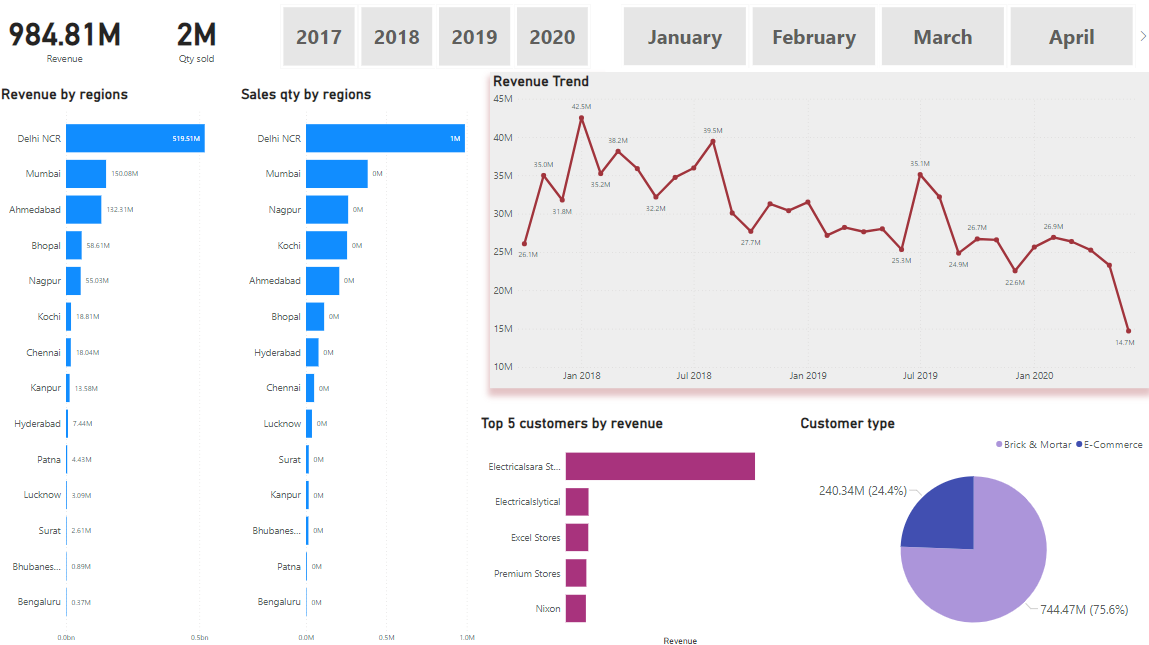

This screenshot's page, from the dashboard's own definition file:
{"tool":"powerbi","page":{"name":"Page 1","canvas":[1920,1080],"ordinal":0},"visuals":[{"type":"card","fields":{"Values":["Base_measures.Revenue"]},"box":[0,0,221.1,120.9],"z":0},{"type":"card","fields":{"Values":["Base_measures.Sales_qty"]},"box":[221.1,0,221.1,120.9],"z":1000},{"type":"barChart","title":"Revenue by regions","fields":{"Y":["Base_measures.Revenue"],"Category":["sales markets.markets_name"]},"box":[0,142.5,400,937.5],"z":2000},{"type":"barChart","title":"Sales qty by regions","fields":{"Y":["Base_measures.Sales_qty"],"Category":["sales markets.markets_name"]},"box":[400,142.5,400,937.5],"z":3000},{"type":"slicer","fields":{"Values":["sales date.year"]},"box":[445.5,0,566.7,121.2],"z":4000},{"type":"clusteredBarChart","title":"Top 5 customers by revenue","fields":{"Category":["sales customers.custmer_name"],"Y":["Base_measures.Revenue"]},"box":[800,690,532.5,390],"z":5000},{"type":"lineChart","title":"Revenue Trend","fields":{"Y":["Base_measures.Revenue"],"Category":["sales date.cy_date.Variation.Date Hierarchy.Year","sales date.cy_date.Variation.Date Hierarchy.Month"]},"box":[820,120,1100,527.5],"z":6000},{"type":"pieChart","title":"Customer type","fields":{"Category":["sales customers.customer_type"],"Y":["Base_measures.Revenue"]},"box":[1333.3,690,586.7,390],"z":7000},{"type":"slicer","fields":{"Values":["sales date.cy_date.Variation.Date Hierarchy.Month"]},"box":[1012.5,0,907.5,120],"z":8000}]}

Visuals, with their boxes in screenshot pixels (x1, y1, x2, y2), scaled from the page's 1920x1080 canvas onto the 1149x645 screenshot:
card - Base_measures.Revenue: (0,0,132,72)
card - Base_measures.Sales_qty: (132,0,265,72)
"Revenue by regions" barChart: (0,85,239,644)
"Sales qty by regions" barChart: (239,85,479,644)
slicer - sales date.year: (267,0,606,72)
"Top 5 customers by revenue" clusteredBarChart: (479,412,797,644)
"Revenue Trend" lineChart: (491,72,1148,387)
"Customer type" pieChart: (798,412,1148,644)
slicer - sales date.cy_date.Variation.Date Hierarchy.Month: (606,0,1148,72)
